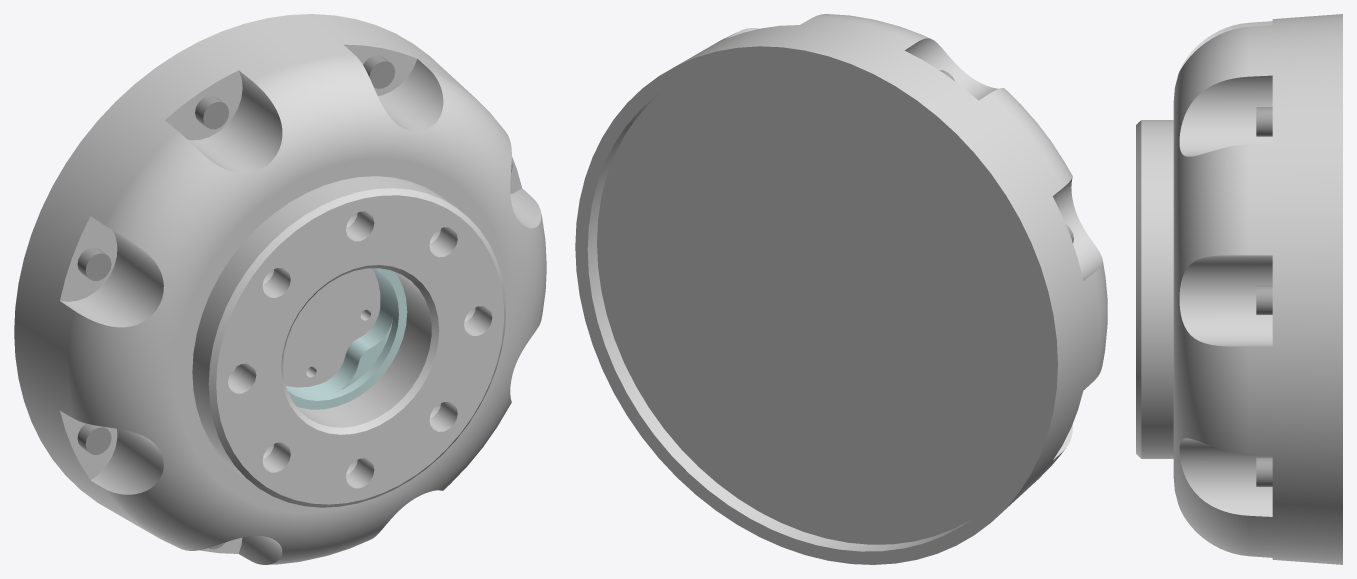
The picture shows the model from 3 angles, left to right: view 1: azimuth 30°, elevation 25°; view 2: azimuth 150°, elevation 25°; view 3: azimuth 270°, elevation 25°; orthographic projection.
Parts seen in each view (by area): view 1: link_7; view 2: link_7; view 3: link_7.
Boxes of the visible parts, bbox=[...] form: link_7: bbox=[14, 14, 546, 564]; link_7: bbox=[575, 14, 1107, 564]; link_7: bbox=[1136, 14, 1342, 564].
Size of the model in its own units: 0.1022 by 0.1021 by 0.0384.
